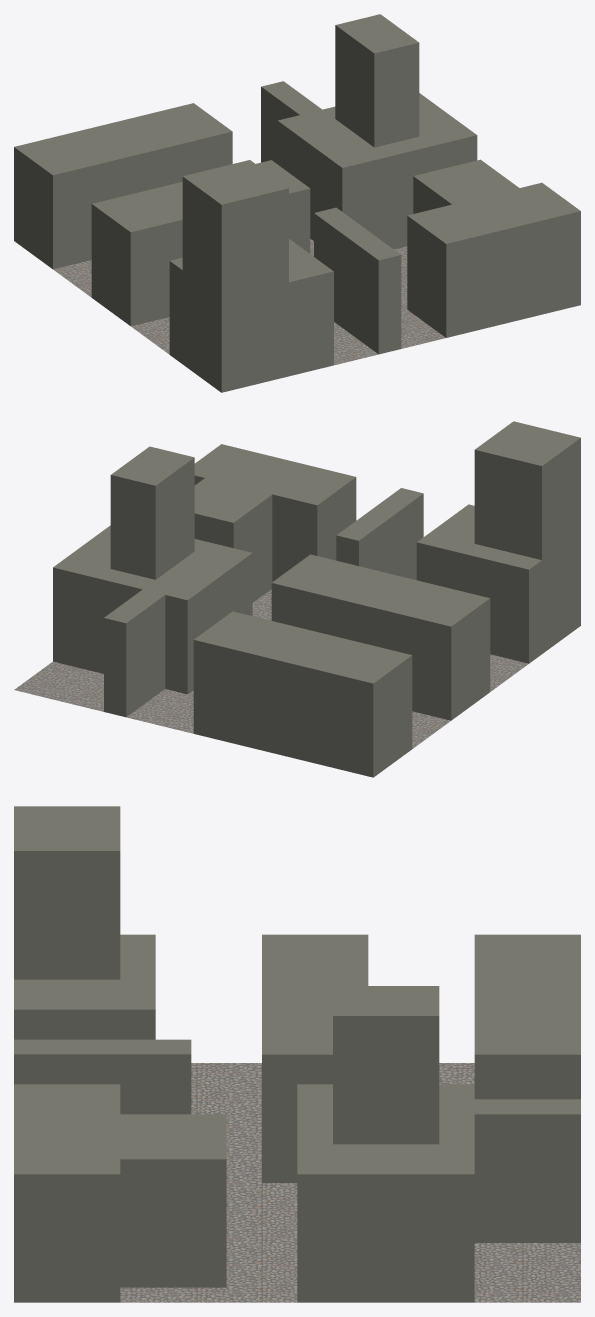
Rendered from title1.fbx.
3 views of the same model, one above another, from view 1: azimuth 30°, elevation 25°; view 2: azimuth 150°, elevation 25°; view 3: azimuth 270°, elevation 25° (orthographic). The views are drawn at different scales.
Parts seen in each view (by area): view 1: Tile 2; view 2: Tile 2; view 3: Tile 2.
Boxes of the visible parts, x1,y1,x2,y2 form: Tile 2: (14, 14, 580, 392); Tile 2: (14, 421, 580, 777); Tile 2: (14, 806, 580, 1302).
Size of the model in its own units: 1600 by 800 by 1600.
